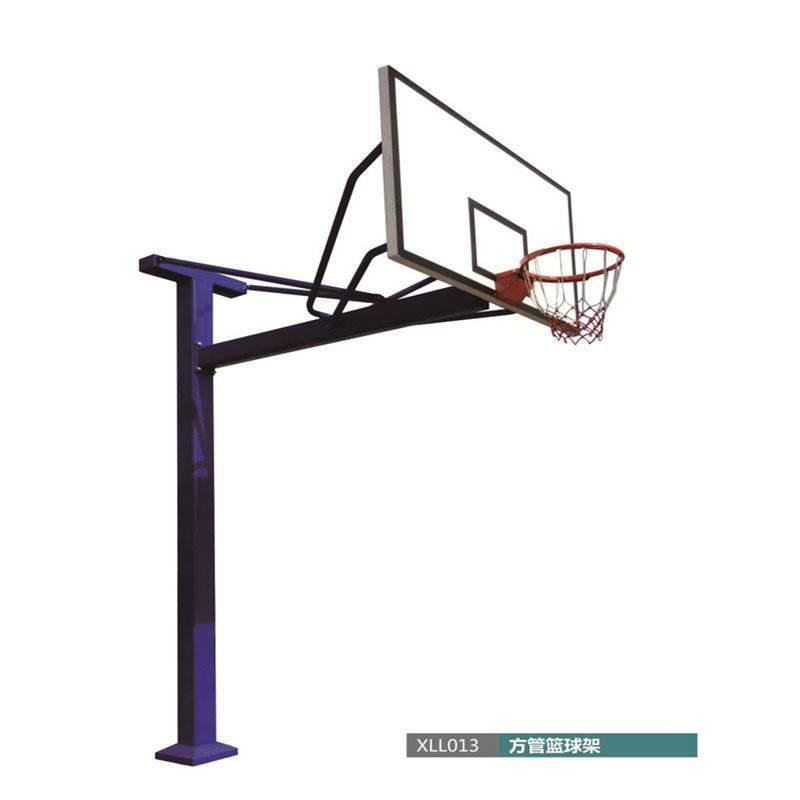rim: (522, 241, 624, 342)
